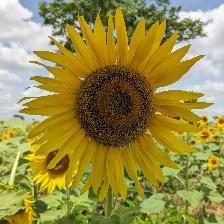sunflower: (18, 7, 216, 205)
